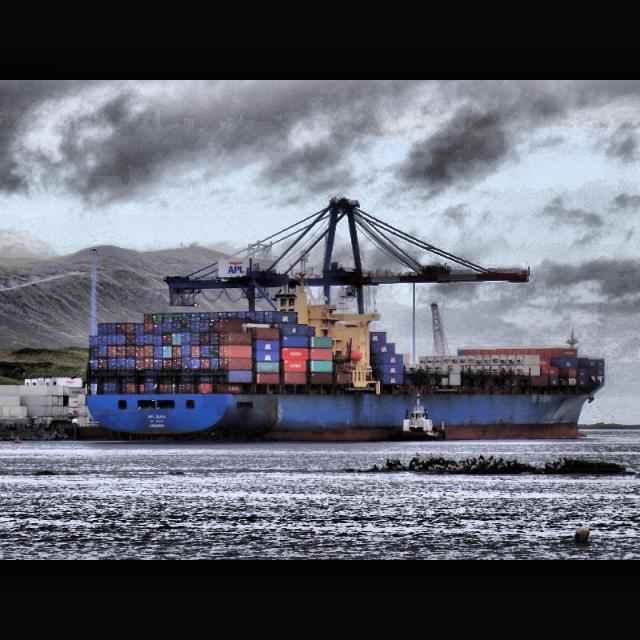container: (86, 288, 606, 444)
